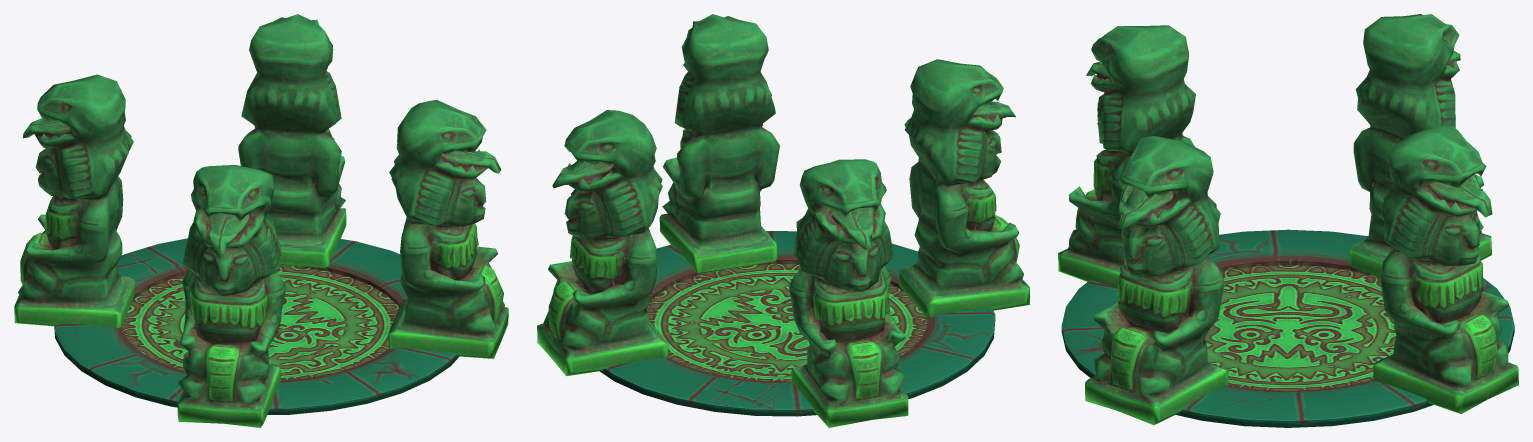
Rendered from central_plaza.obj.
3 renders of one model, left to right at view 1: azimuth 30°, elevation 25°; view 2: azimuth 150°, elevation 25°; view 3: azimuth 270°, elevation 25°, orthographic. The views are drawn at different scales.
Visible parts, largest first — view 1: Cube_001.001_Cube_001.003, Cube_001.003, circle1.001; view 2: Cube_001.003, Cube_001.001_Cube_001.003, circle1.001; view 3: Cube_001.003, Cube_001.001_Cube_001.003, circle1.001.
Boxes of the visible parts, <box> form: Cube_001.001_Cube_001.003: <box>14,74,508,358</box>; Cube_001.003: <box>177,14,346,427</box>; circle1.001: <box>54,238,458,414</box>; Cube_001.003: <box>537,59,1029,376</box>; Cube_001.001_Cube_001.003: <box>659,14,908,427</box>; circle1.001: <box>600,231,995,416</box>; Cube_001.003: <box>1058,25,1518,413</box>; Cube_001.001_Cube_001.003: <box>1085,14,1491,424</box>; circle1.001: <box>1061,229,1514,427</box>.
Bounding box in the file's own units: 332 × 199 × 332.
